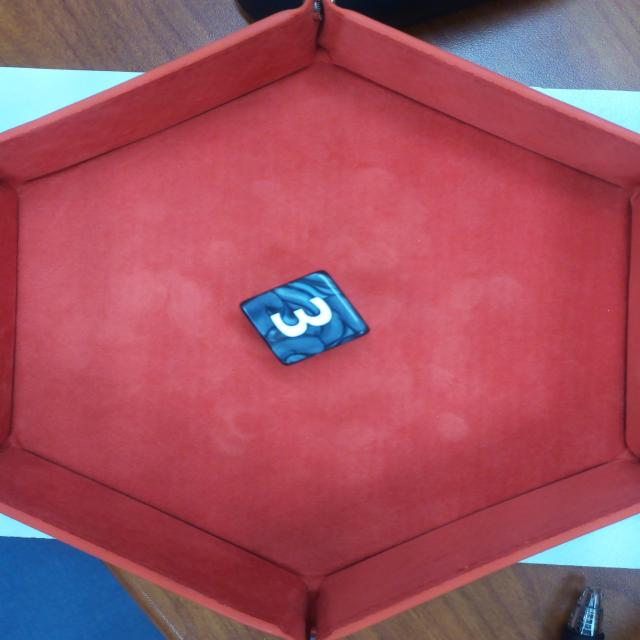dice: (240, 272, 377, 365)
